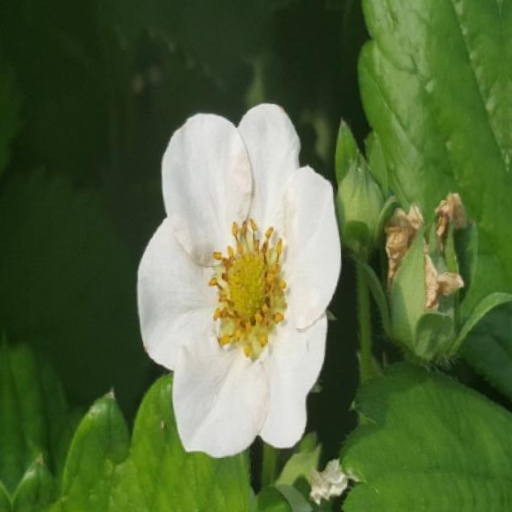Blossom Blight: (202, 213, 287, 362)
